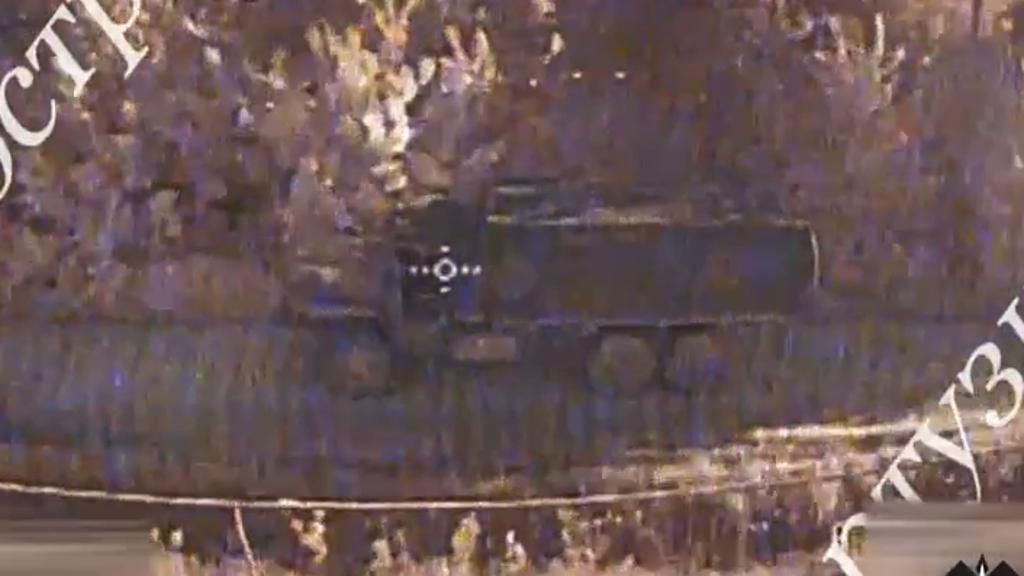TRUCK: (274, 142, 827, 404)
